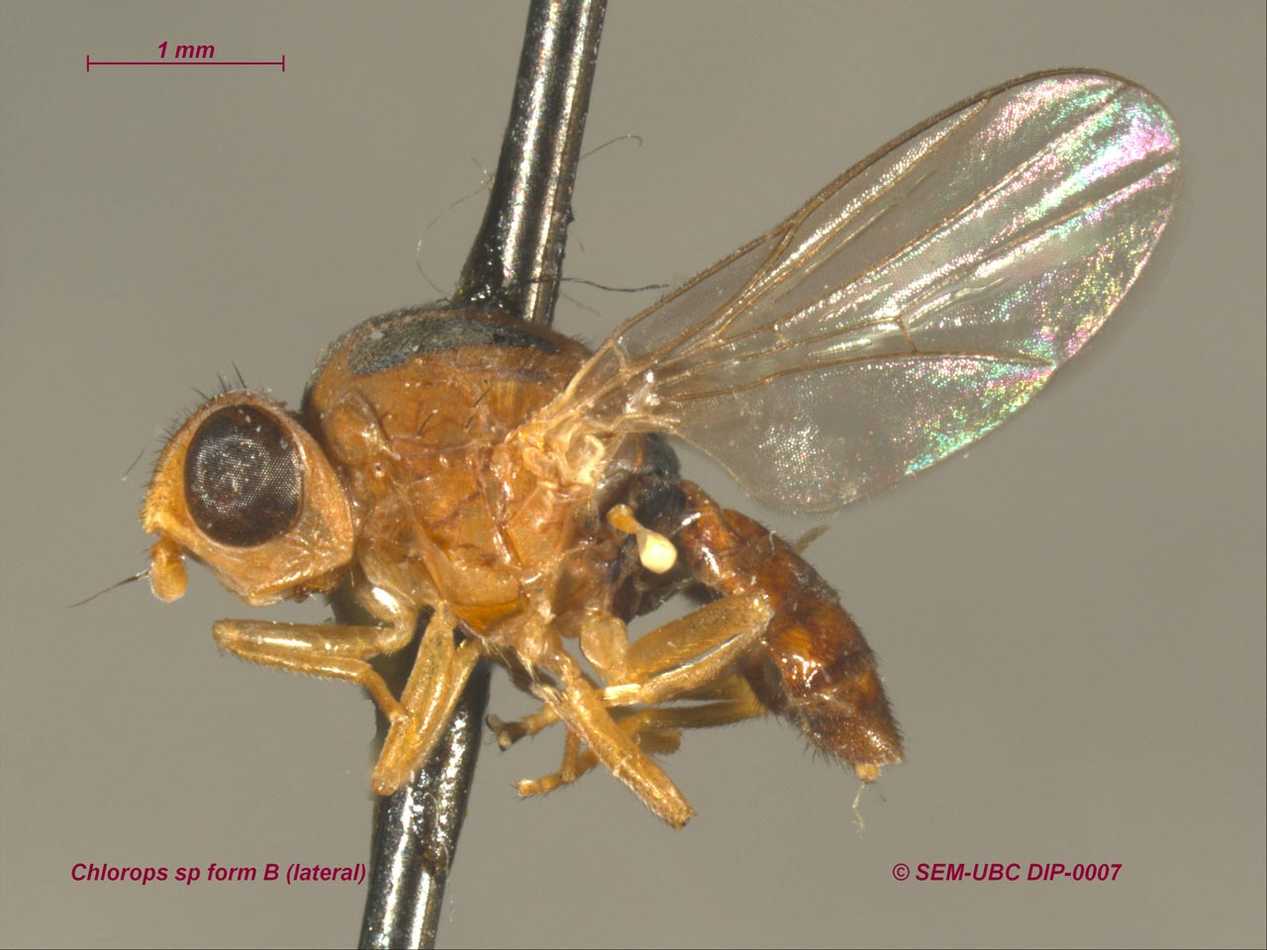Chloropidae: (69, 64, 1198, 824)
